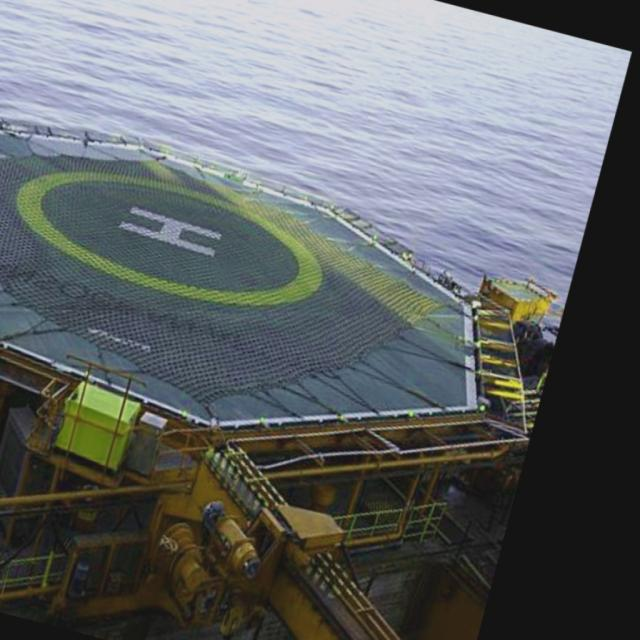helipad: (8, 165, 326, 309)
